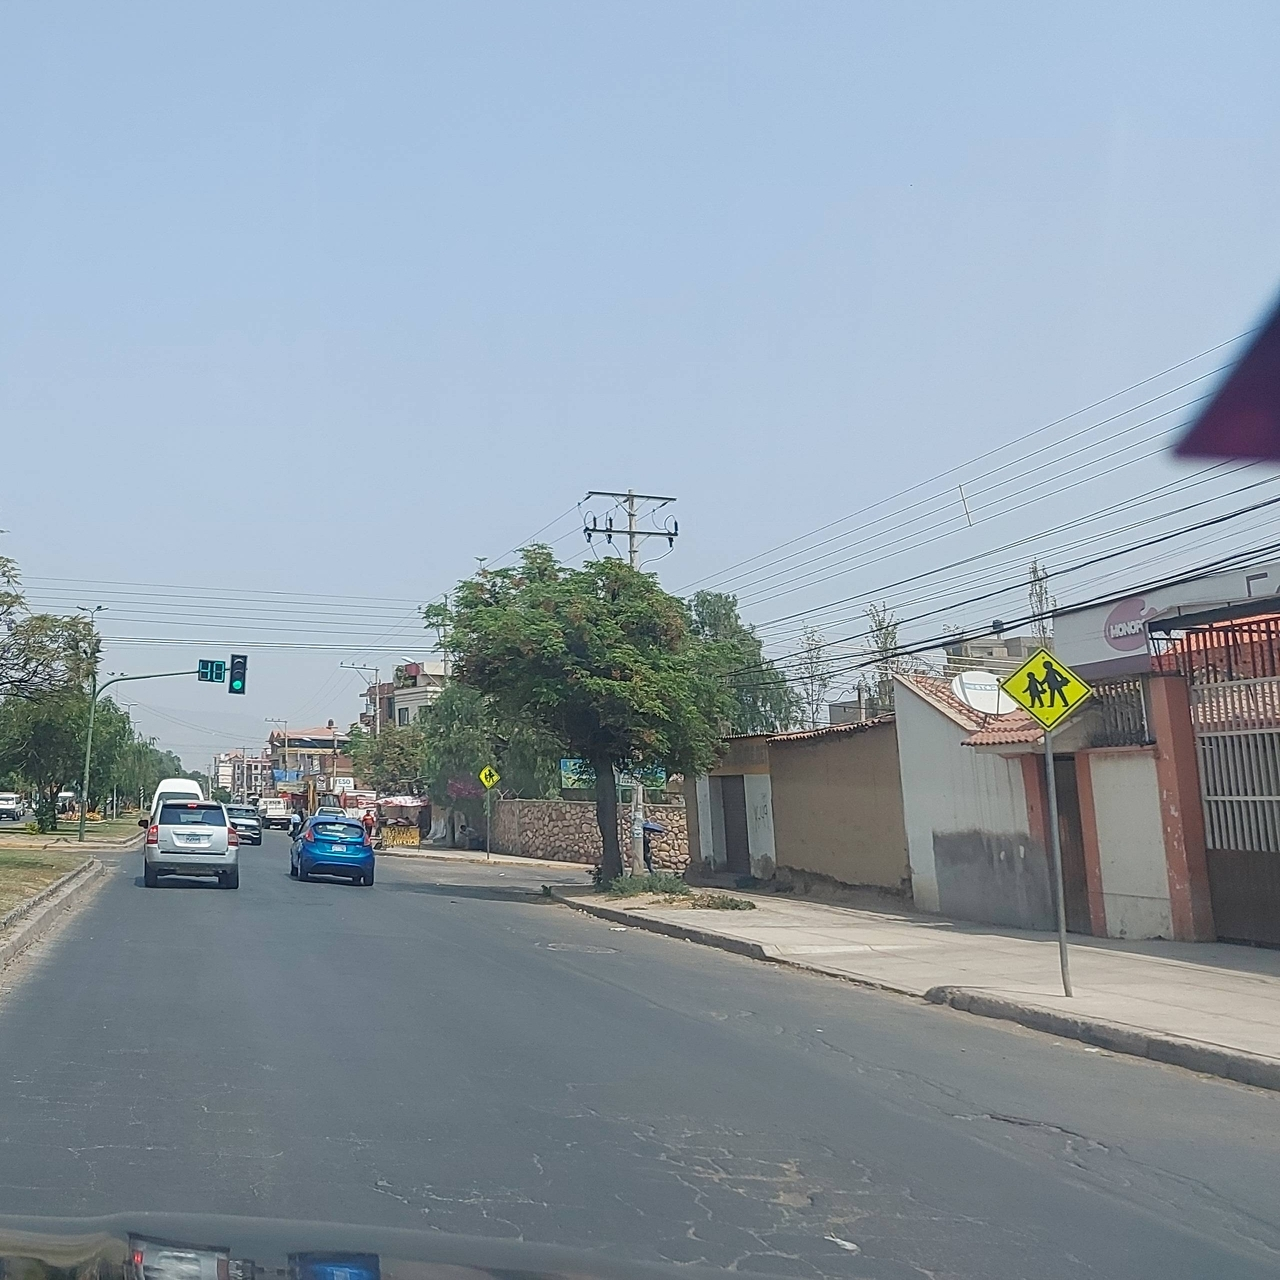zona-escolar: (1001, 648, 1091, 733)
